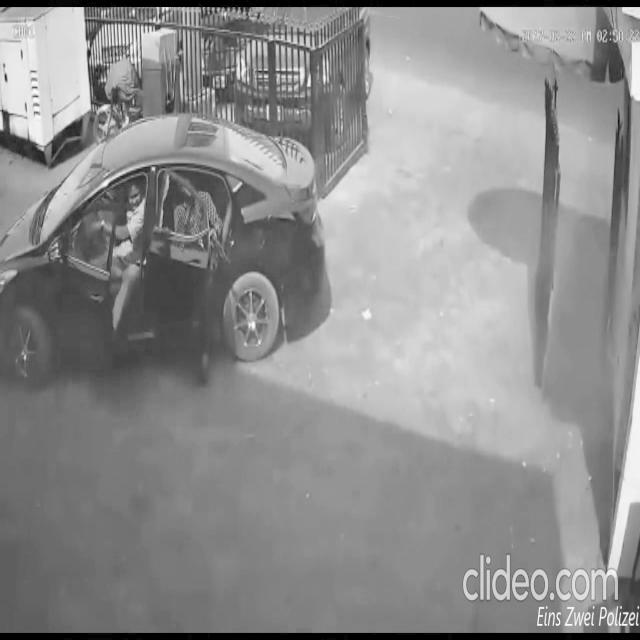gun: (203, 221, 231, 273)
person: (94, 176, 147, 338)
person with a gun: (170, 172, 232, 388)
